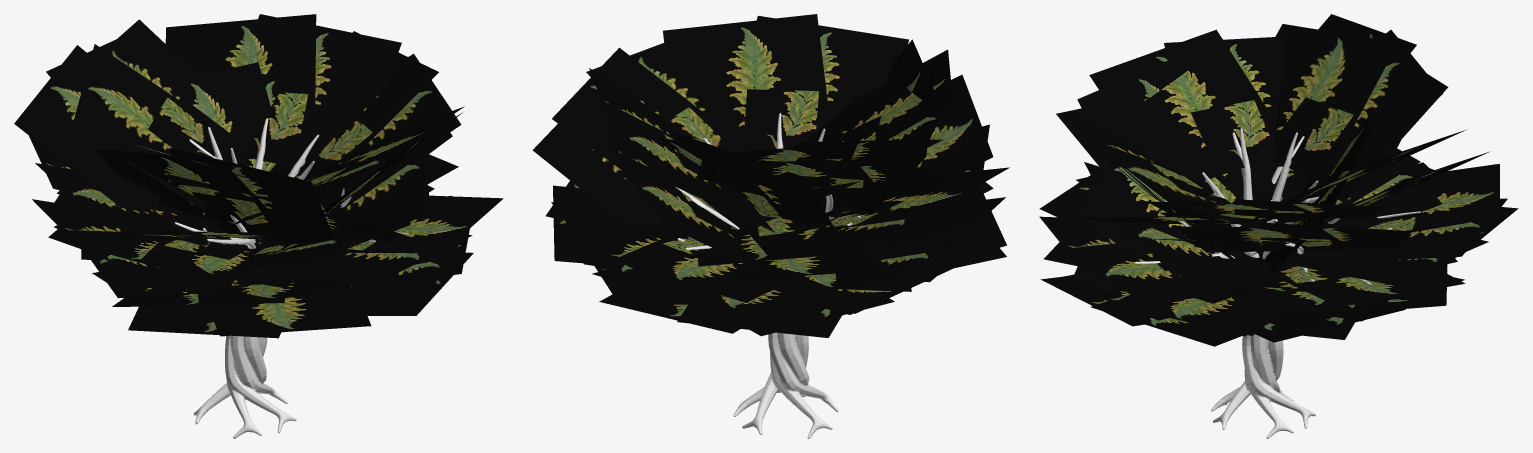
The model's file is BigCarbTree.fbx.
3 renders of one model, left to right at view 1: azimuth 30°, elevation 25°; view 2: azimuth 150°, elevation 25°; view 3: azimuth 270°, elevation 25°, orthographic. The views are drawn at different scales.
Parts seen in each view (by area): view 1: Plane.050, Plane.049, Plane.052, Plane.046, Plane, Plane.051, Plane.013, Plane.014, Plane.039, Plane.062, Plane.067, Plane.008 (+28 smaller); view 2: Plane.042, Plane.041, Plane.040, Plane.038, Plane.044, Plane, Plane.050, Plane.036, Plane.012, Plane.048, Plane.045, Plane.039 (+34 smaller); view 3: Plane.044, Plane.052, Plane.051, Plane, Plane.043, Plane.028, Plane.074, Plane.014, Plane.036, Plane.035, Plane.032, Plane.031 (+35 smaller).
Part boxes in pixels (bbox=[...]): Plane.050: bbox=[165, 14, 316, 159]; Plane.049: bbox=[254, 14, 401, 169]; Plane.052: bbox=[71, 44, 225, 211]; Plane.046: bbox=[14, 45, 162, 212]; Plane: bbox=[141, 118, 408, 438]; Plane.051: bbox=[78, 19, 241, 158]; Plane.013: bbox=[95, 149, 294, 237]; Plane.014: bbox=[170, 147, 336, 244]; Plane.039: bbox=[299, 53, 461, 212]; Plane.062: bbox=[160, 62, 271, 234]; Plane.067: bbox=[281, 154, 431, 265]; Plane.008: bbox=[214, 289, 371, 336]; Plane.042: bbox=[663, 14, 829, 152]; Plane.041: bbox=[744, 15, 908, 136]; Plane.040: bbox=[552, 47, 726, 169]; Plane.038: bbox=[532, 124, 666, 230]; Plane.044: bbox=[807, 49, 952, 141]; Plane: bbox=[675, 113, 860, 438]; Plane.050: bbox=[596, 97, 774, 232]; Plane.036: bbox=[612, 232, 801, 302]; Plane.012: bbox=[915, 74, 993, 174]; Plane.048: bbox=[609, 147, 759, 268]; Plane.045: bbox=[706, 158, 882, 193]; Plane.039: bbox=[586, 40, 724, 147]; Plane.044: bbox=[1089, 29, 1276, 182]; Plane.052: bbox=[1271, 24, 1398, 171]; Plane.051: bbox=[1275, 31, 1448, 202]; Plane: bbox=[1134, 128, 1420, 438]; Plane.043: bbox=[1164, 36, 1284, 167]; Plane.028: bbox=[1059, 243, 1244, 304]; Plane.074: bbox=[1076, 136, 1260, 259]; Plane.014: bbox=[1077, 49, 1200, 164]; Plane.036: bbox=[1405, 164, 1500, 232]; Plane.035: bbox=[1339, 198, 1507, 261]; Plane.032: bbox=[1255, 263, 1465, 306]; Plane.031: bbox=[1231, 261, 1389, 311].
Bounding box in the file's own units: 495 × 406 × 523.
